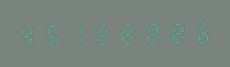eight: (137, 19, 160, 46), (113, 20, 136, 46), (161, 19, 184, 45)
five: (89, 20, 112, 47), (41, 21, 64, 47)
four: (17, 21, 40, 48)
one: (65, 20, 88, 47)
six: (185, 18, 208, 45)
